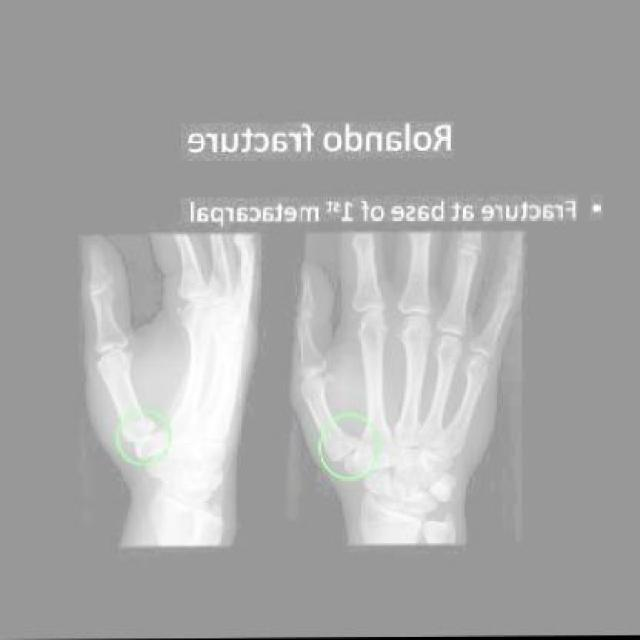Fracture: (125, 417, 159, 457), (337, 422, 370, 461)
